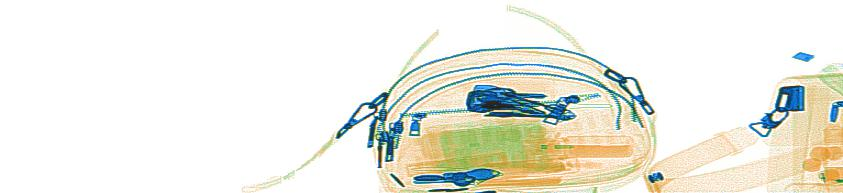plasticBottleWithaNozzle: (516, 133, 633, 159)
